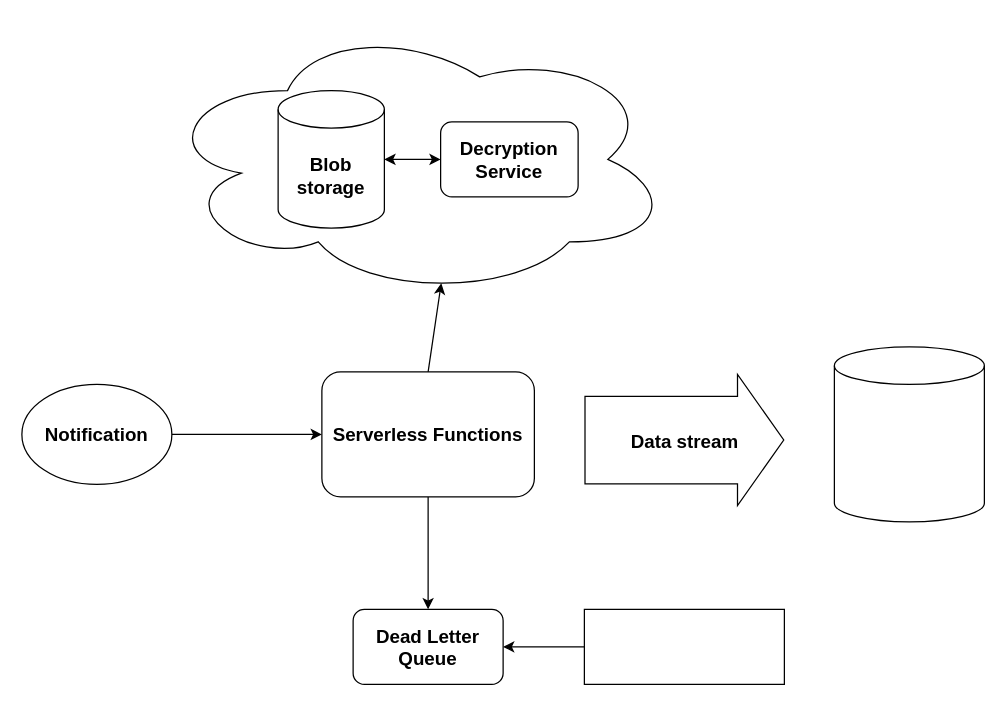
Some shapes in this 1006 by 706 pixel diagram are drawn without their labels. Here are the shapes that lost their labels. From the top down, the centre of each, then its label:
At pixel 908 434: "Data Warehouse".
At pixel 683 646: "Monitoring".
